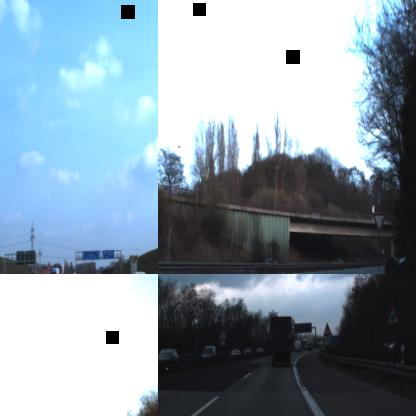DANGER: (218, 325, 228, 340), (323, 322, 332, 336)
SNOW: (384, 300, 401, 326)
give way: (372, 211, 386, 234)
